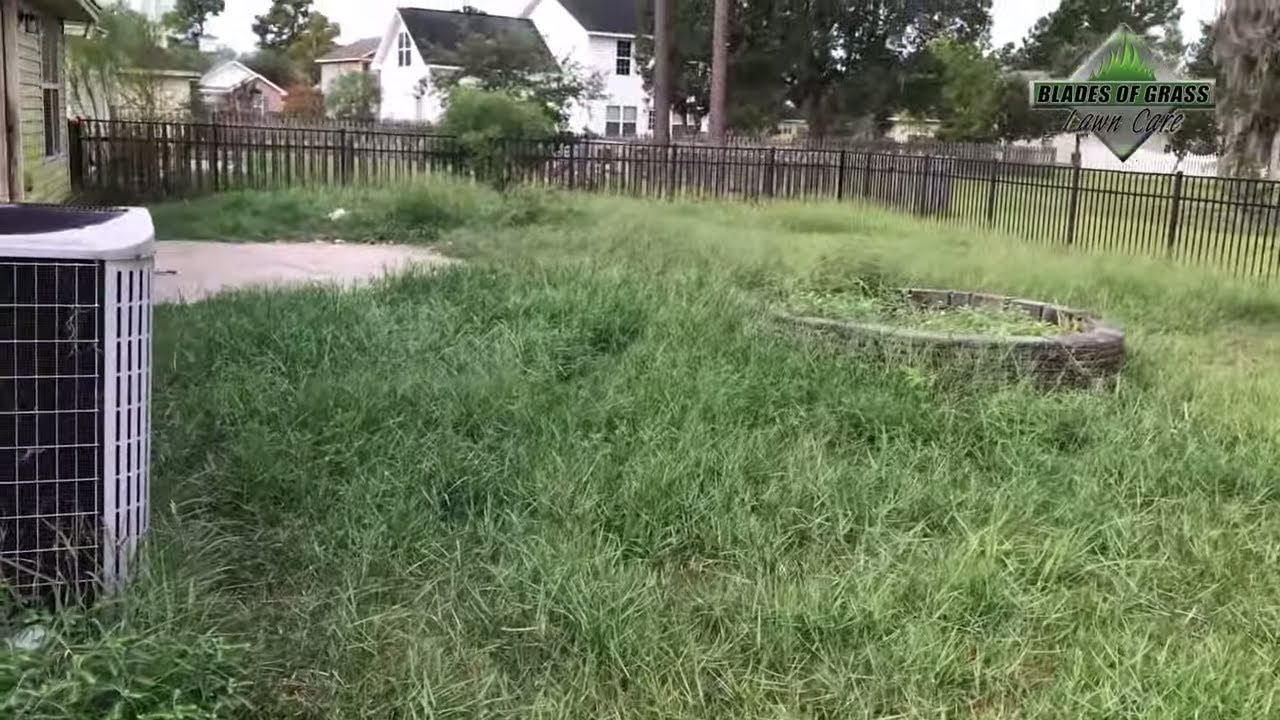grass: (166, 306, 1280, 720)
